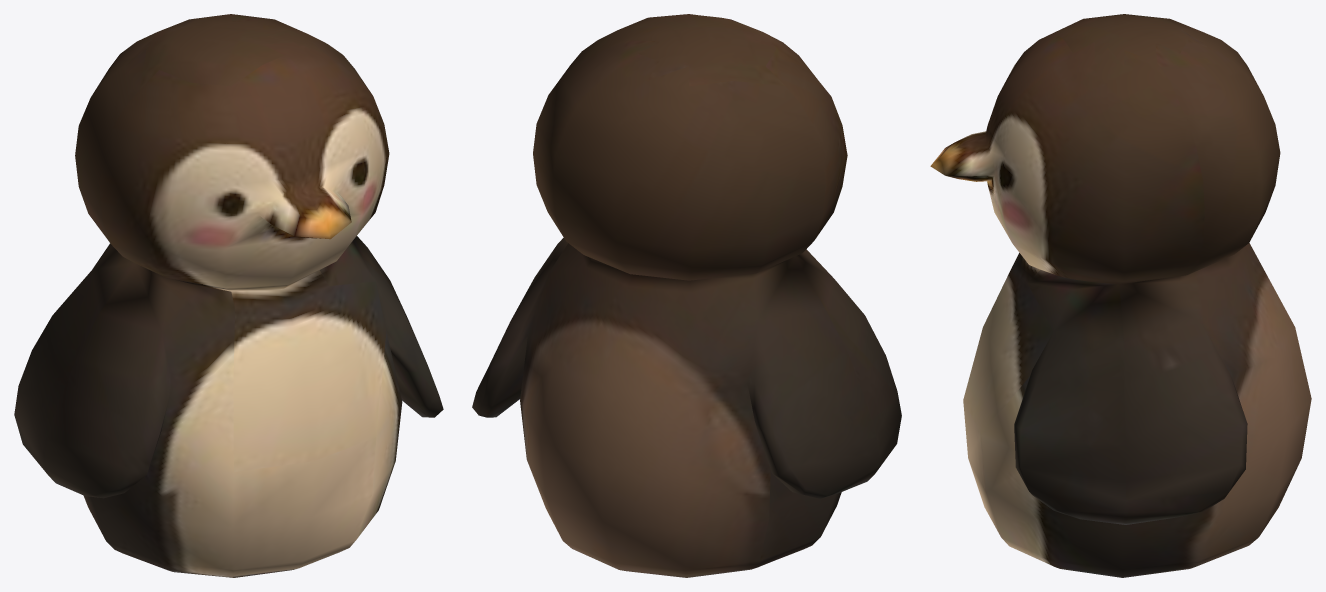
File: penguin-08-41-child-small-kokeshi-penguin.gltf
The picture shows the model from 3 angles, left to right: view 1: azimuth 30°, elevation 25°; view 2: azimuth 150°, elevation 25°; view 3: azimuth 270°, elevation 25°; orthographic projection.
Parts seen in each view (by area): view 1: penguin-08-41-child-small-kokeshi-penguin; view 2: penguin-08-41-child-small-kokeshi-penguin; view 3: penguin-08-41-child-small-kokeshi-penguin.
Boxes of the visible parts, x1,y1,x2,y2 form: penguin-08-41-child-small-kokeshi-penguin: [14, 14, 443, 577]; penguin-08-41-child-small-kokeshi-penguin: [472, 14, 901, 577]; penguin-08-41-child-small-kokeshi-penguin: [930, 14, 1311, 577].
Bounding box in the file's own units: 0.2 × 0.2538 × 0.1758.
Materials: 1 (1 with a texture image).
